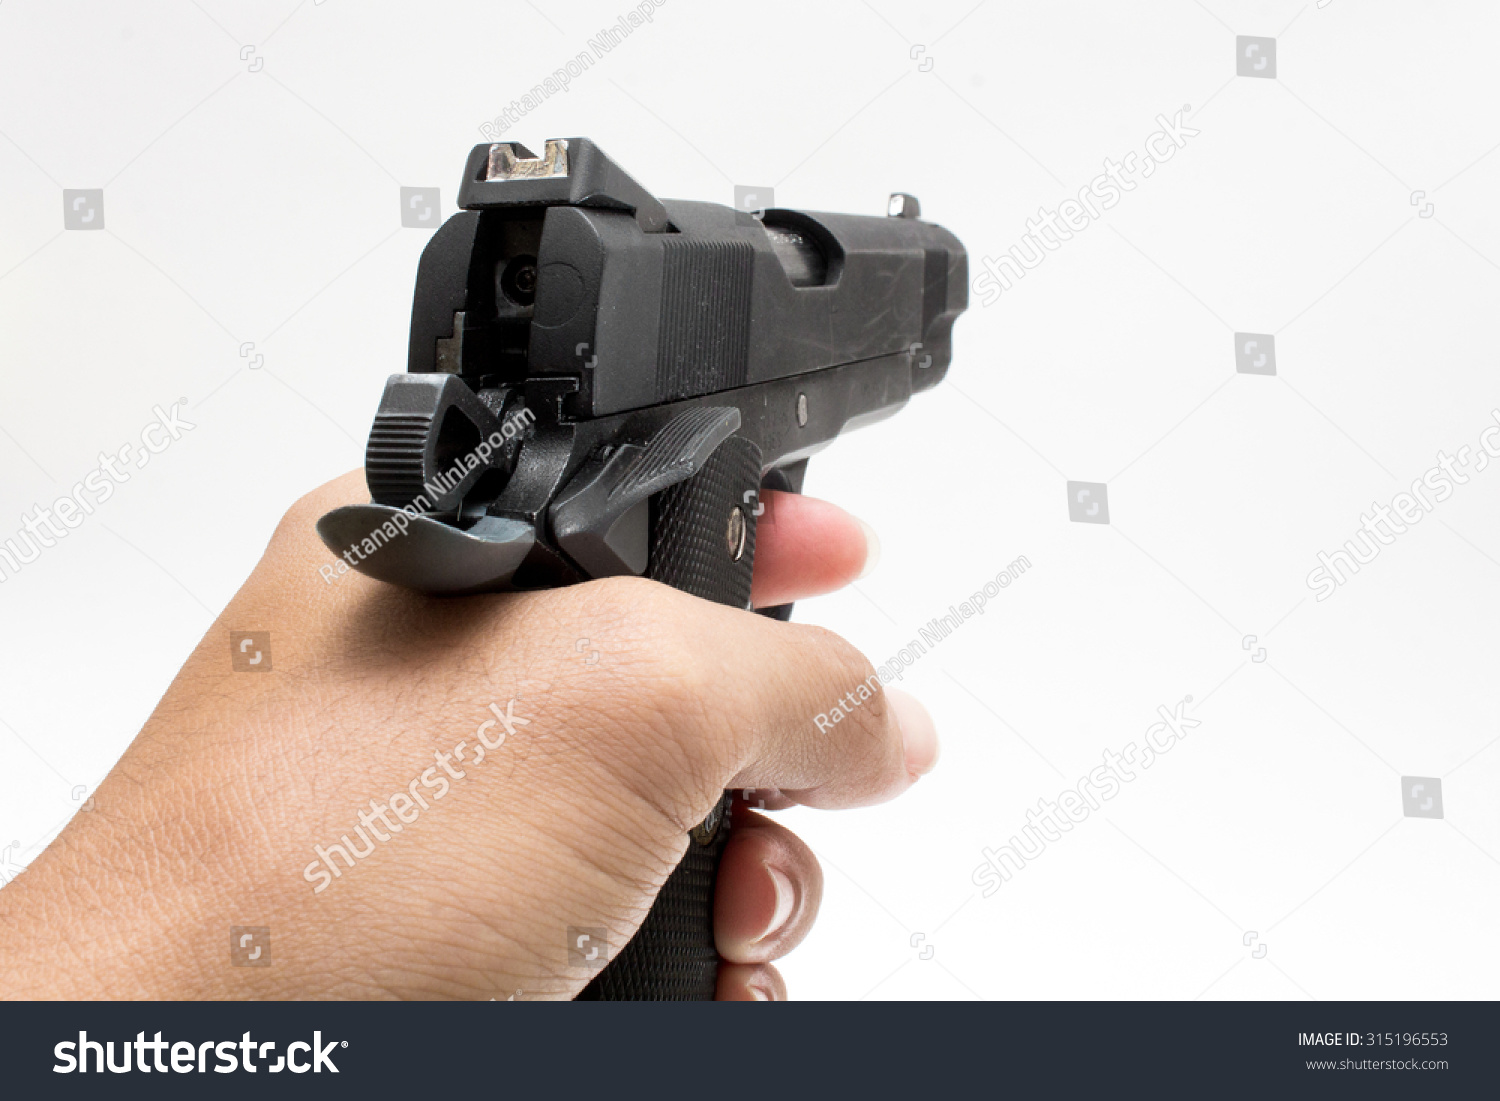pistol: (9, 86, 1138, 998)
